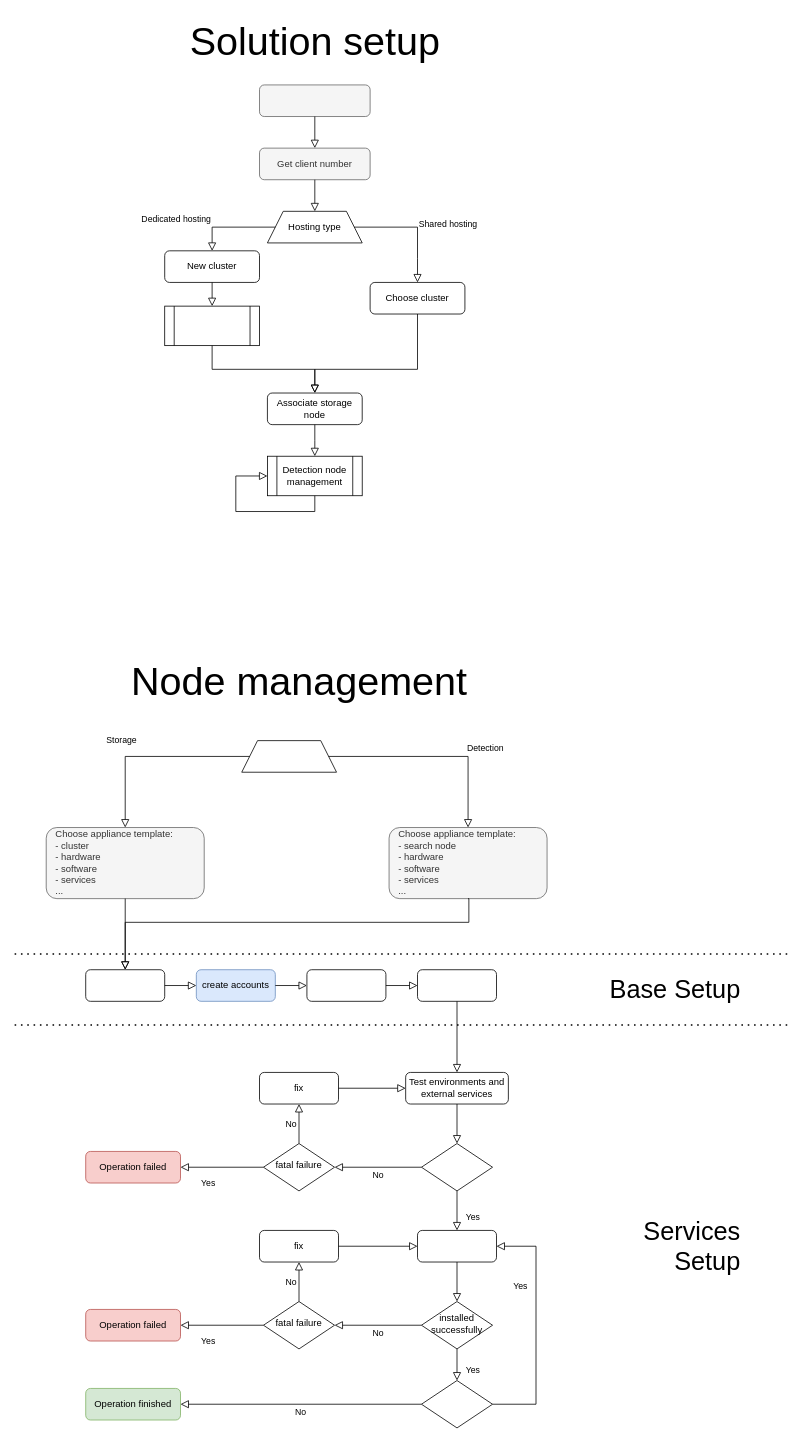
This 803x1442 diagram has some shape labels left out. The shapes that lost their labels are listed below. From the top down, each one's box as (x1, y1, x2, y2) in pixels, then its label:
(259, 84, 370, 117): New application
(164, 305, 260, 346): Storage node management
(241, 740, 337, 772): Node type
(85, 969, 165, 1001): install os
(306, 969, 386, 1001): install software
(417, 969, 497, 1001): set remote access
(421, 1143, 493, 1191): all right
(417, 1230, 497, 1262): install & setup internal service
(421, 1380, 493, 1428): next service
